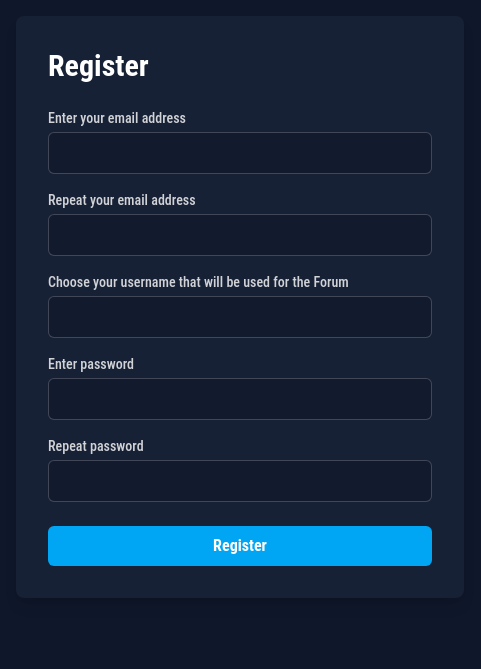
it: Register page › shows an inline error and blocks submission when emails do not match
The image size is (481, 669).
Type "yuki@example.com" into the field labelled "Enter your email address" at (240, 153), box x1=48 y1=132 x2=432 y2=174
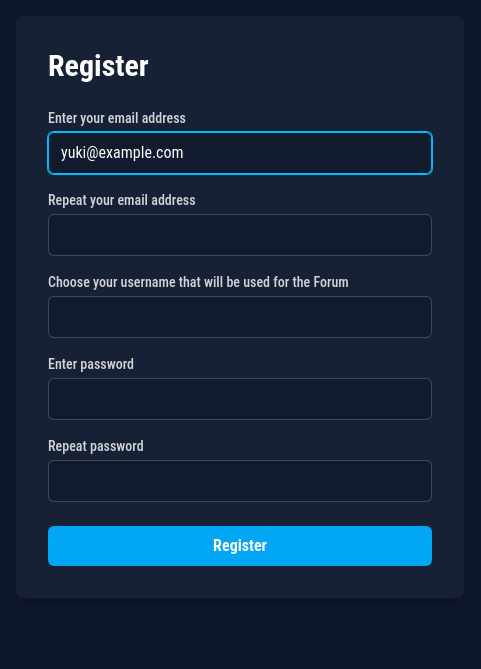
Type "someone-else@example.com" into the field labelled "Repeat your email address" at (240, 235), box x1=48 y1=214 x2=432 y2=256
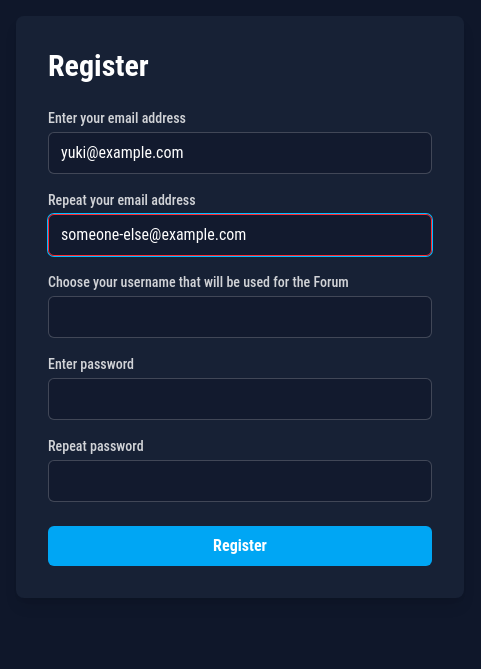
Type "yuki" into the field labelled "Choose your username that will be used for the Forum" at (240, 317), box x1=48 y1=296 x2=432 y2=338
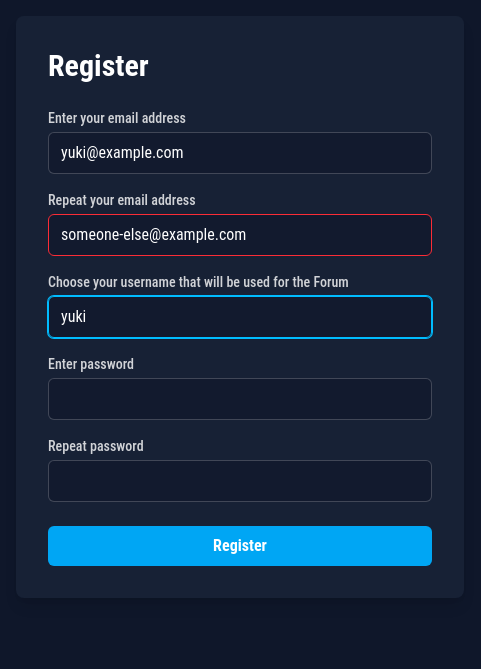
Type "password123" into the password field labelled "Enter password" at (240, 399), box x1=48 y1=378 x2=432 y2=420
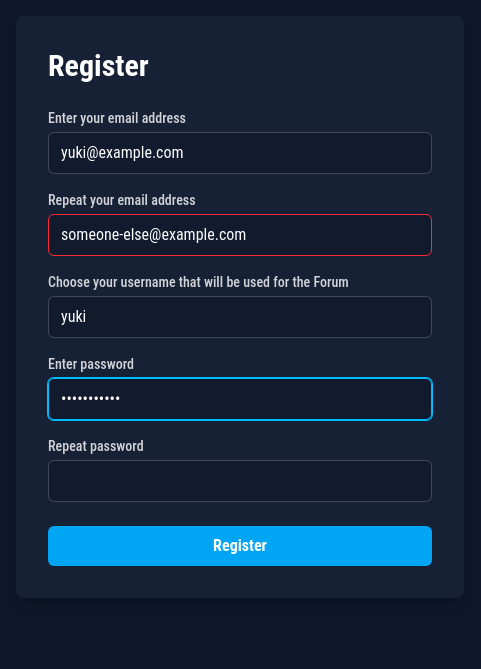
Type "password123" into the password field labelled "Repeat password" at (240, 481), box x1=48 y1=460 x2=432 y2=502
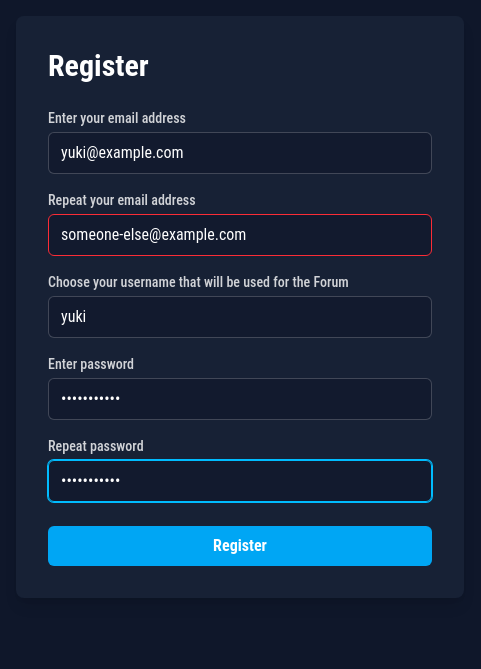
Click the button "Register" at (240, 546), box x1=48 y1=526 x2=432 y2=566
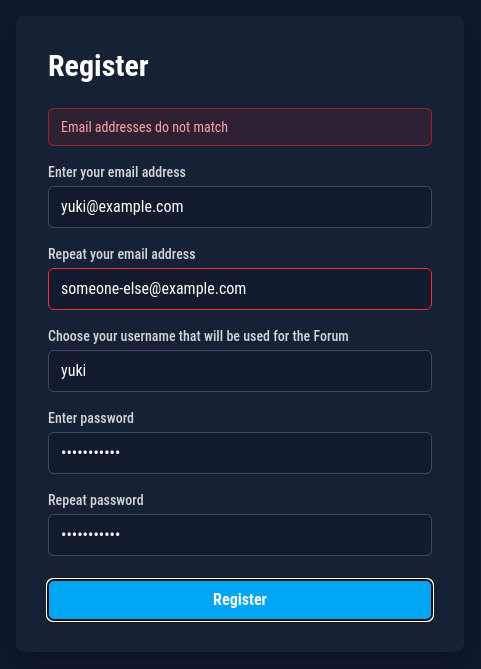
Now the text "Email addresses do not match" is shown, box x1=48 y1=108 x2=432 y2=146
